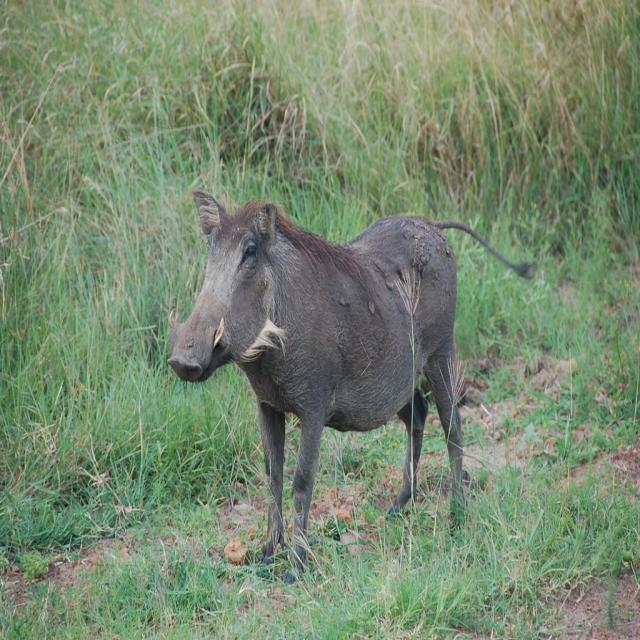Pig: (167, 189, 536, 585)
